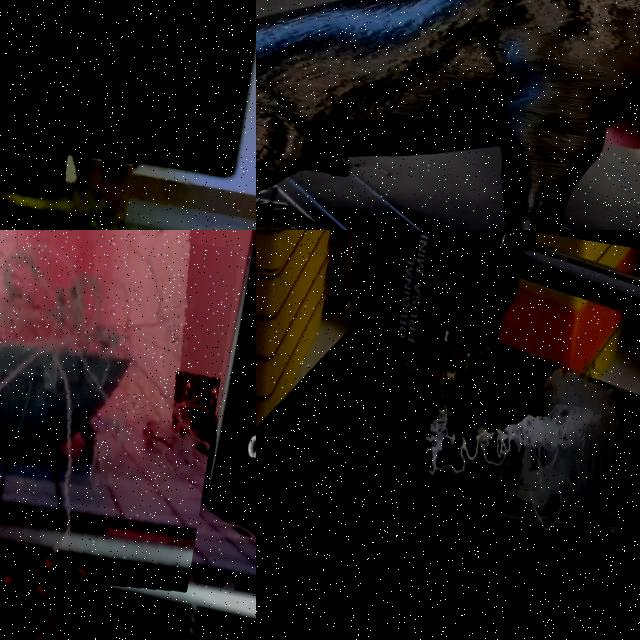spaghetti: (0, 230, 241, 625), (396, 381, 618, 512), (3, 160, 131, 230)
